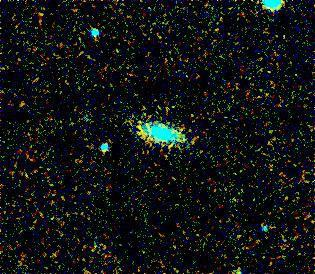star: (175, 129, 205, 159)
